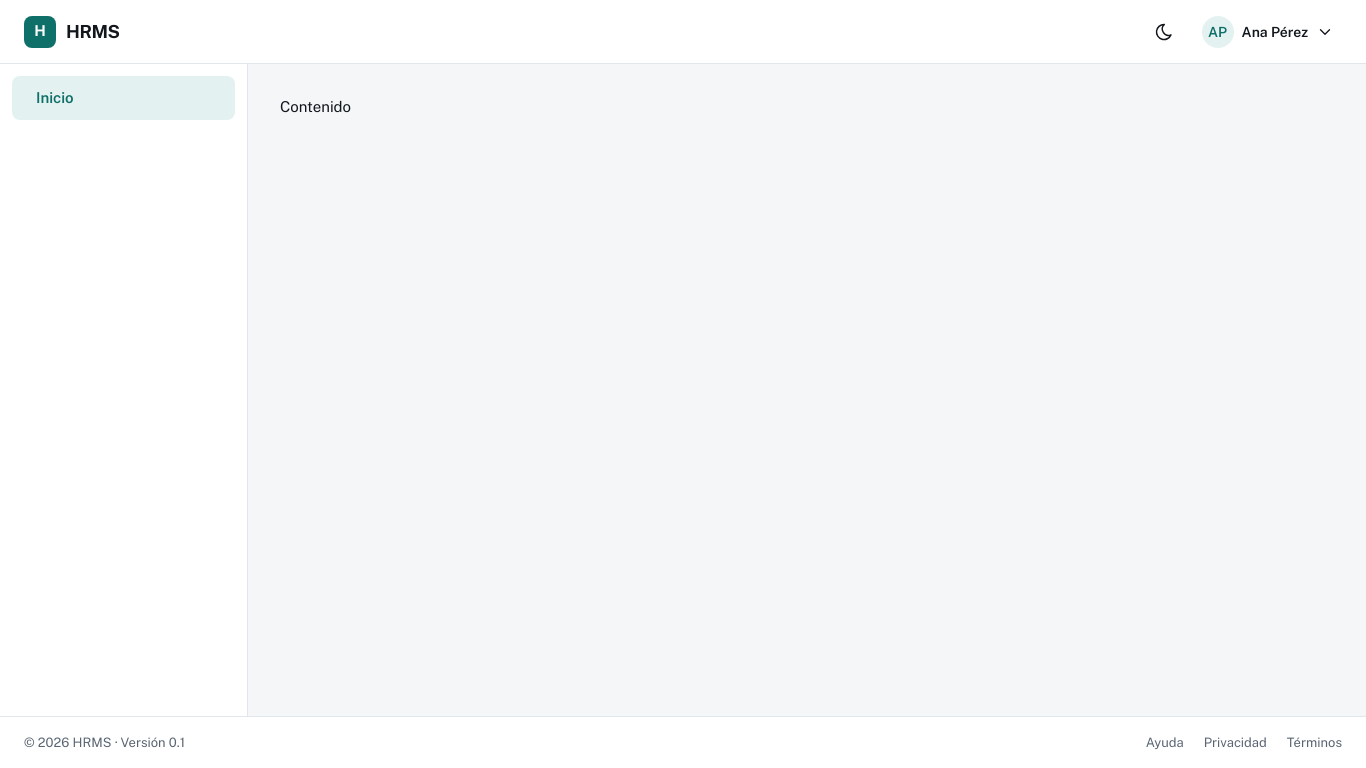
Test: AppShell › alterna el tema y lo persiste
Click the button named "Cambiar a tema oscuro".
click(1164, 32)  # box [1142,10,1186,54]
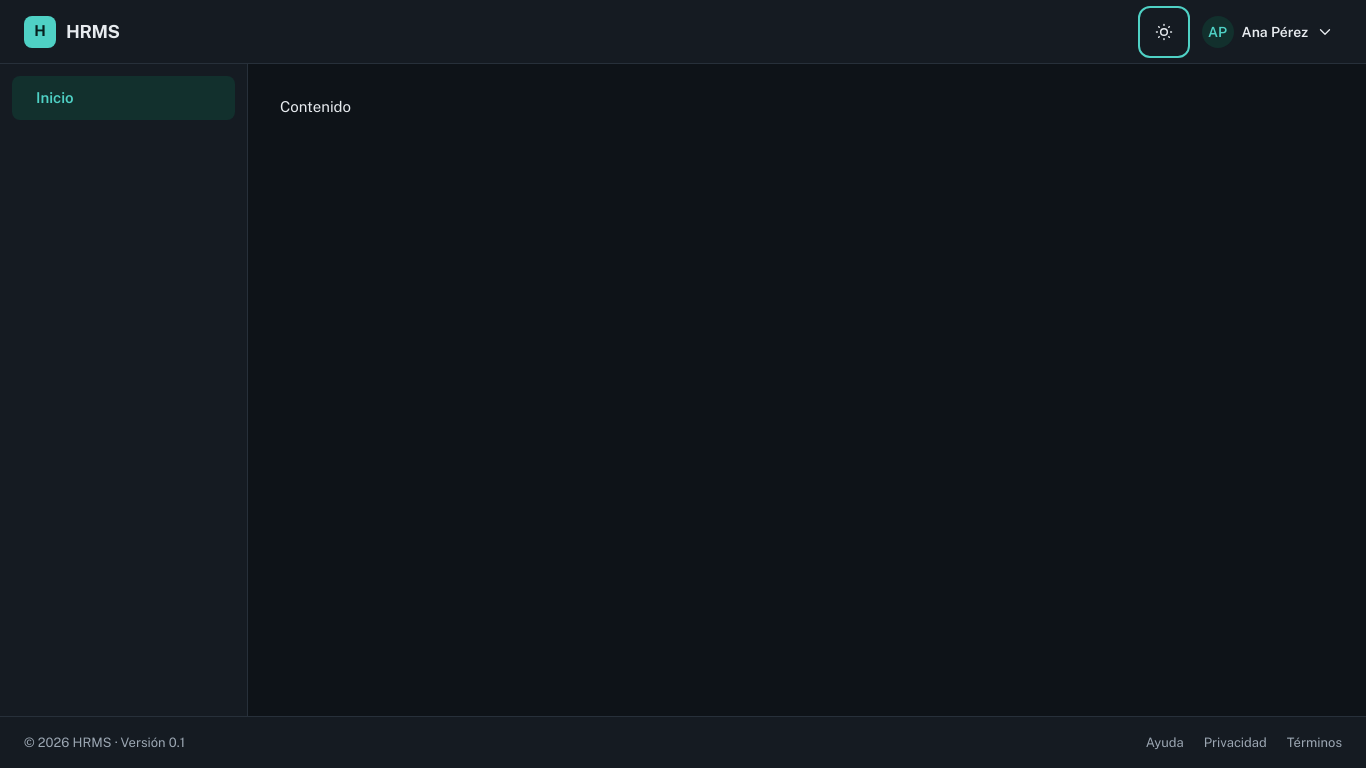
Expected: the button named "Cambiar a tema claro" is shown, [1142,10,1186,54]
